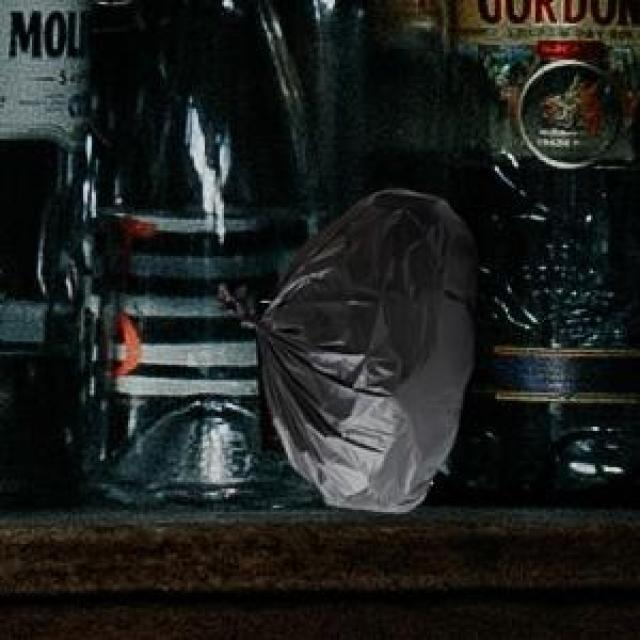waste: (258, 190, 478, 512)
